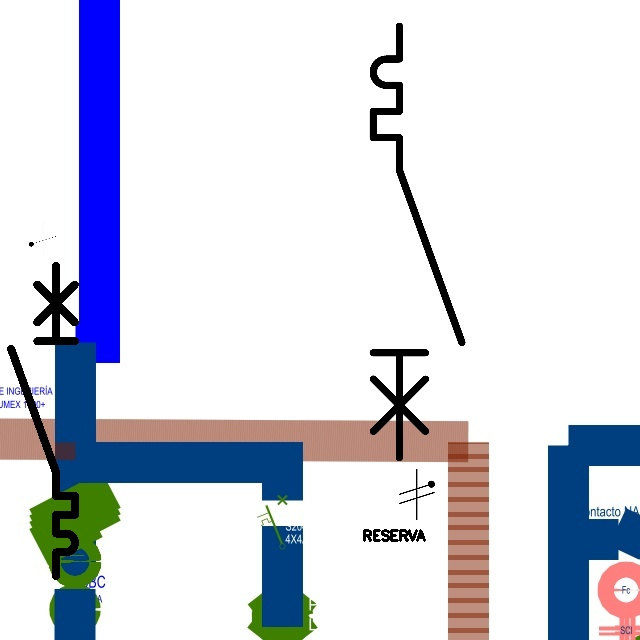interruptor_termomagnetico: (362, 15, 473, 468), (3, 257, 83, 583)
